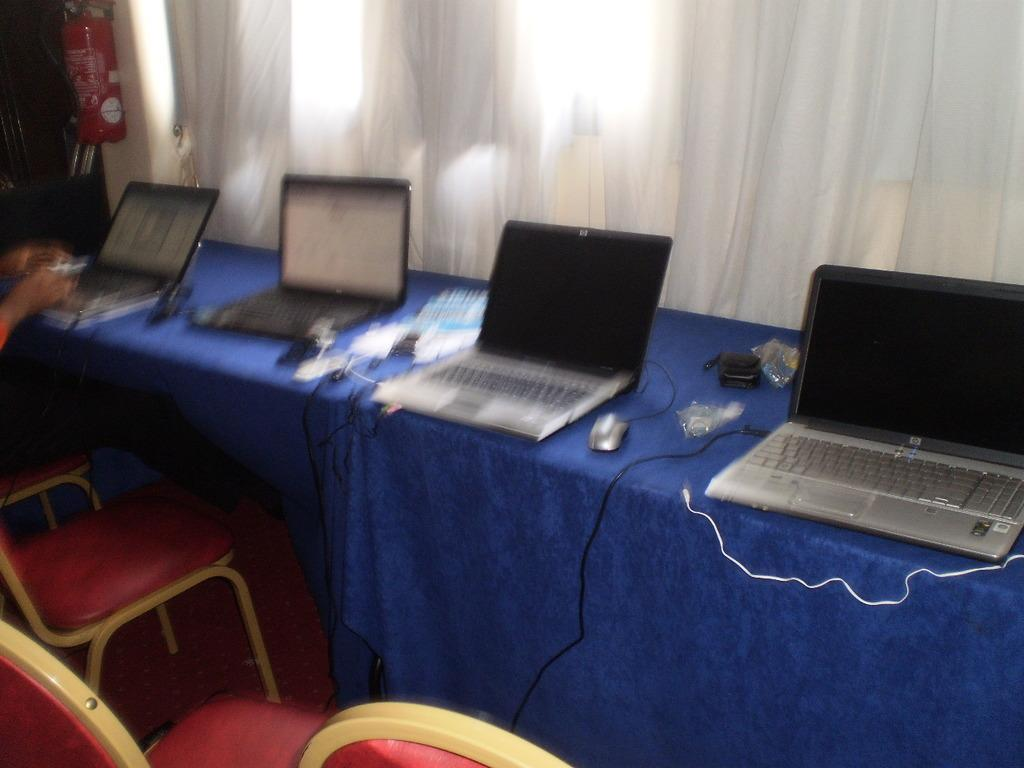Chair: (22, 447, 285, 713), (0, 618, 325, 767), (299, 701, 562, 767), (0, 447, 102, 537)
Computer-keyboard: (745, 426, 1023, 521), (422, 353, 609, 413), (229, 290, 371, 327), (57, 263, 155, 305)
Laptop: (703, 264, 1023, 562), (370, 218, 674, 442), (206, 172, 415, 346), (37, 178, 219, 330)
